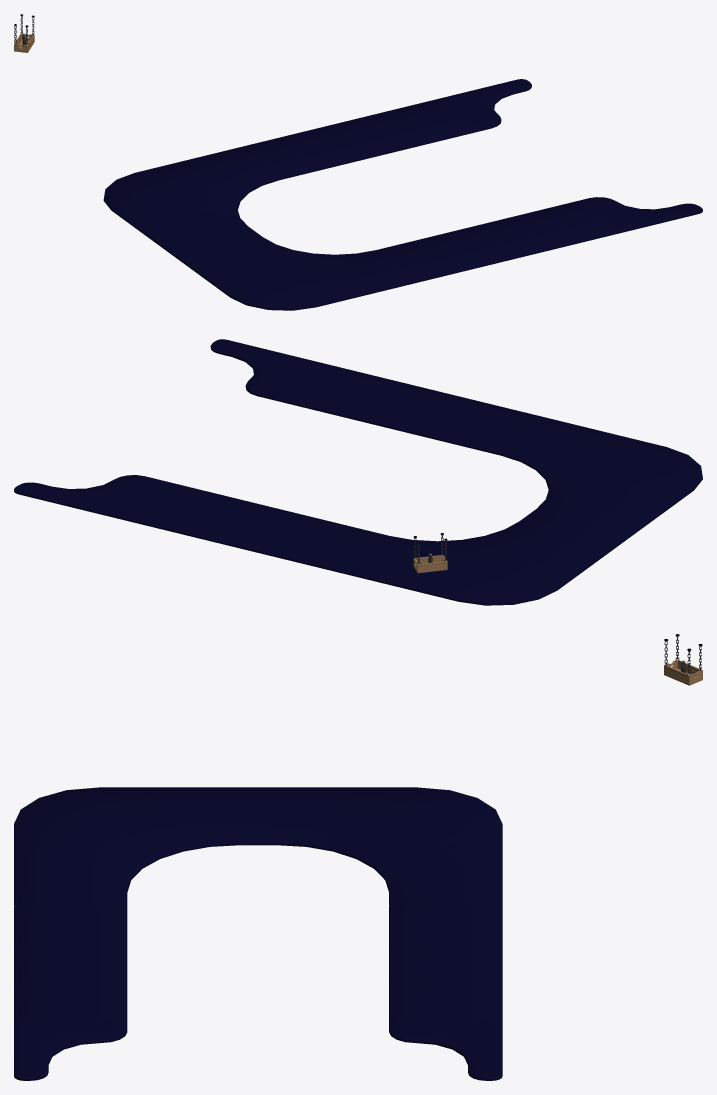
Rendered from AuctionHouseAdditions.fbx.
3 views of the same model, one above another, from view 1: azimuth 30°, elevation 25°; view 2: azimuth 150°, elevation 25°; view 3: azimuth 270°, elevation 25° (orthographic). The views are drawn at different scales.
Visible parts, largest first — view 1: Cube, Cube.001, Cube.002, HangingCrate; view 2: Cube, Cube.001, Cube.002, HangingCrate; view 3: Cube, Cube.001, Cube.002, HangingCrate.
Part boxes in pixels (x1,y1,x2,y2): Cube: (103,142,443,310); Cube.001: (262,99,618,276); Cube.002: (437,79,702,233); HangingCrate: (14,14,34,52); Cube: (312,411,702,605); Cube.001: (111,362,520,565); Cube.002: (14,339,318,516); HangingCrate: (413,533,447,573); Cube: (14,787,502,906); Cube.001: (14,906,502,1021); Cube.002: (14,1021,502,1080); HangingCrate: (664,634,702,685).
Size of the model in its own units: 13.71 by 3.39 by 13.67.
5 materials, 5 textured.
